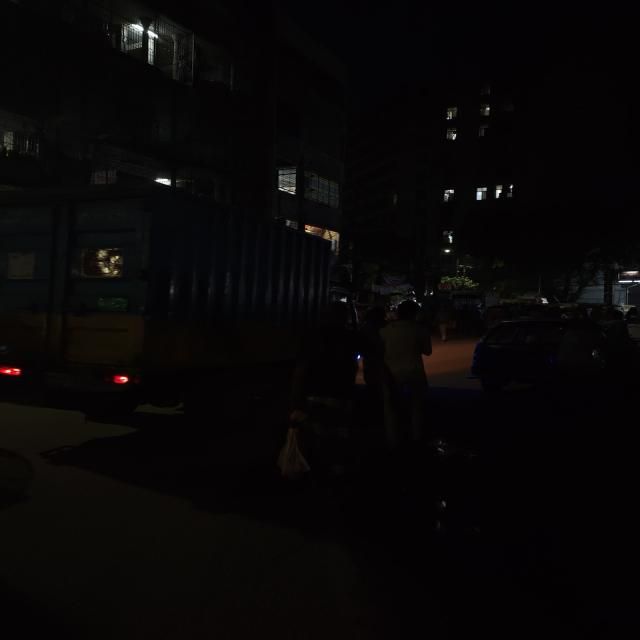car: (474, 314, 618, 395)
pedestrian: (377, 301, 436, 425)
truck: (26, 178, 360, 412)
